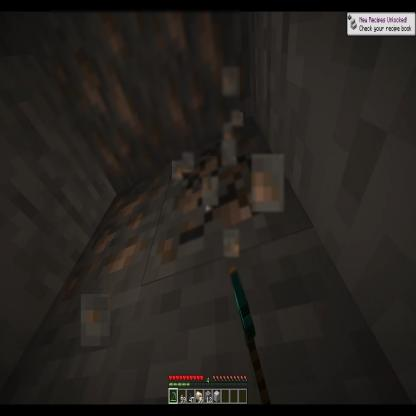iron ore: (145, 116, 289, 287), (50, 8, 170, 178), (138, 0, 240, 156), (60, 161, 173, 297)
